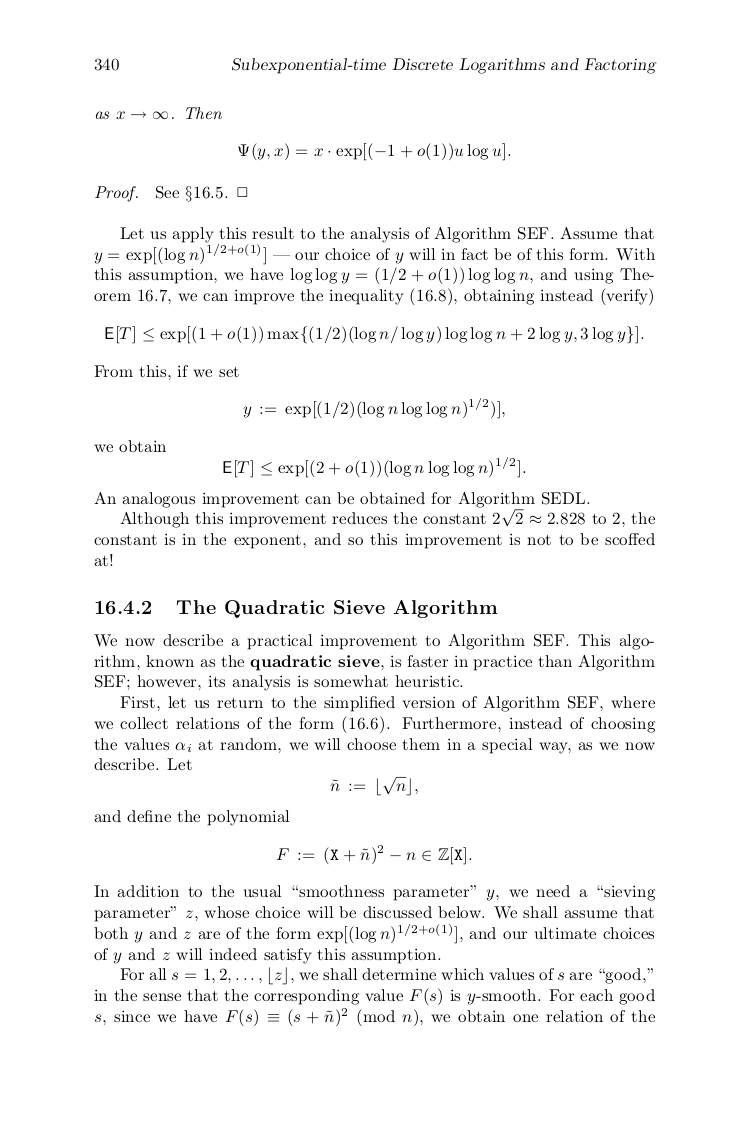formula: (223, 456, 525, 478), (243, 397, 504, 419), (238, 142, 510, 161), (276, 844, 471, 865), (330, 775, 417, 796)
